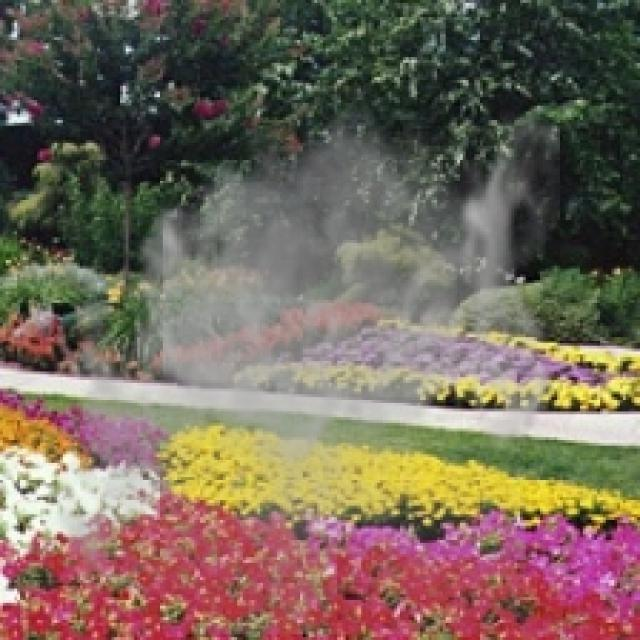Smoke: (40, 86, 560, 634)
